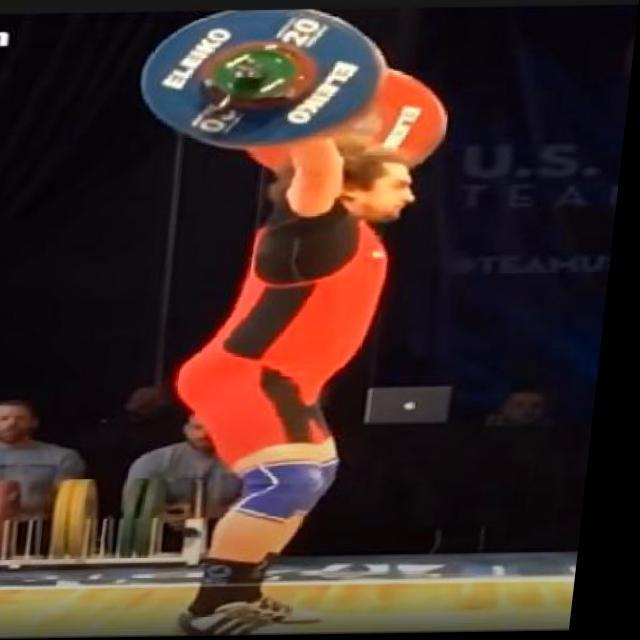barbell: (132, 19, 395, 155)
